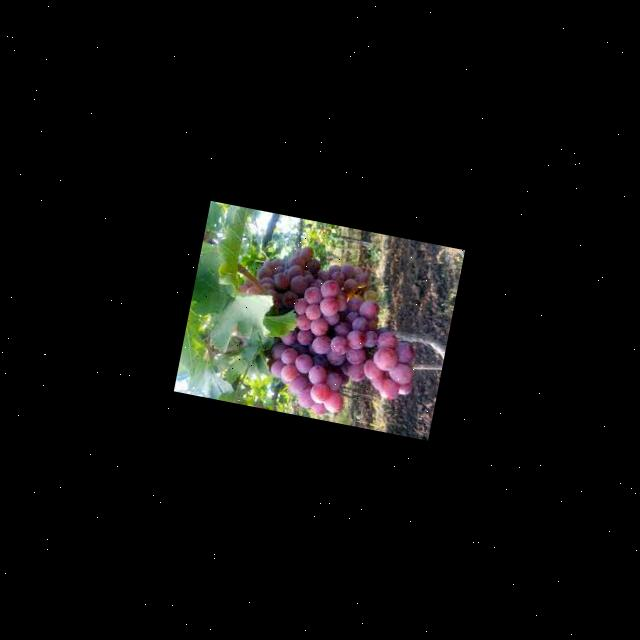grape: (221, 236, 435, 431)
